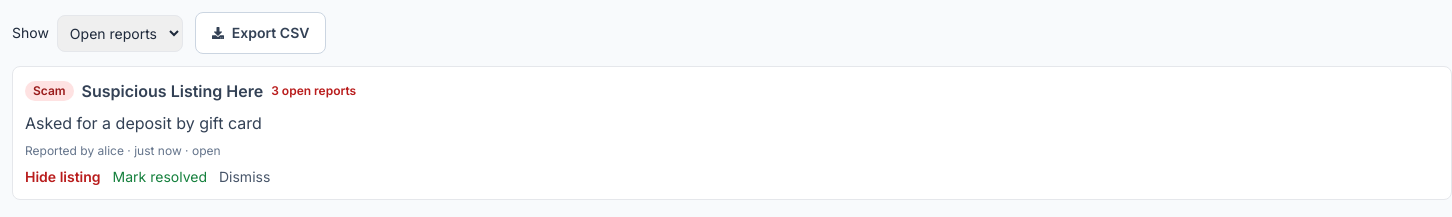
Test: AdminReports › switches between statuses
Expected: the link "Suspicious Listing Here" is shown, [82,79,263,103]
Step 1. Select "Resolved" in the dropdown → (120,33), box [57,14,183,52]
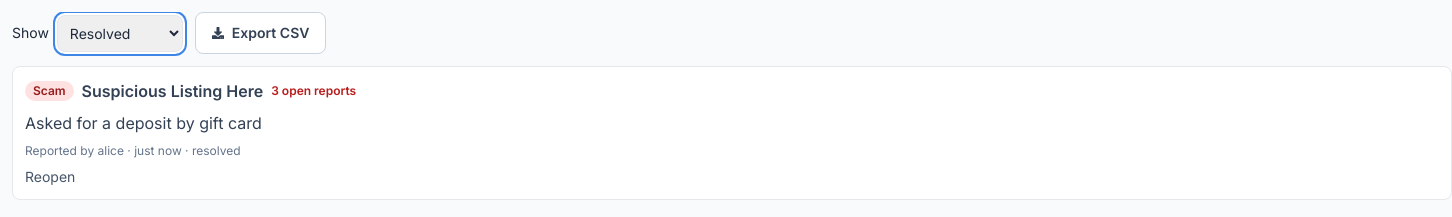
Now the button "Reopen" is shown, box [25,167,75,187]
